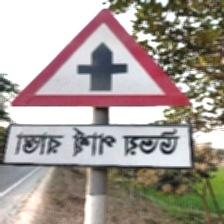Crossroad: (0, 9, 192, 170)
